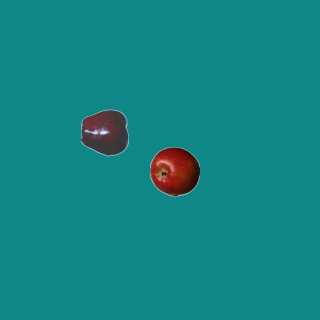Apple Braeburn: (149, 146, 199, 196)
Apple Red Delicious: (80, 107, 130, 157)
